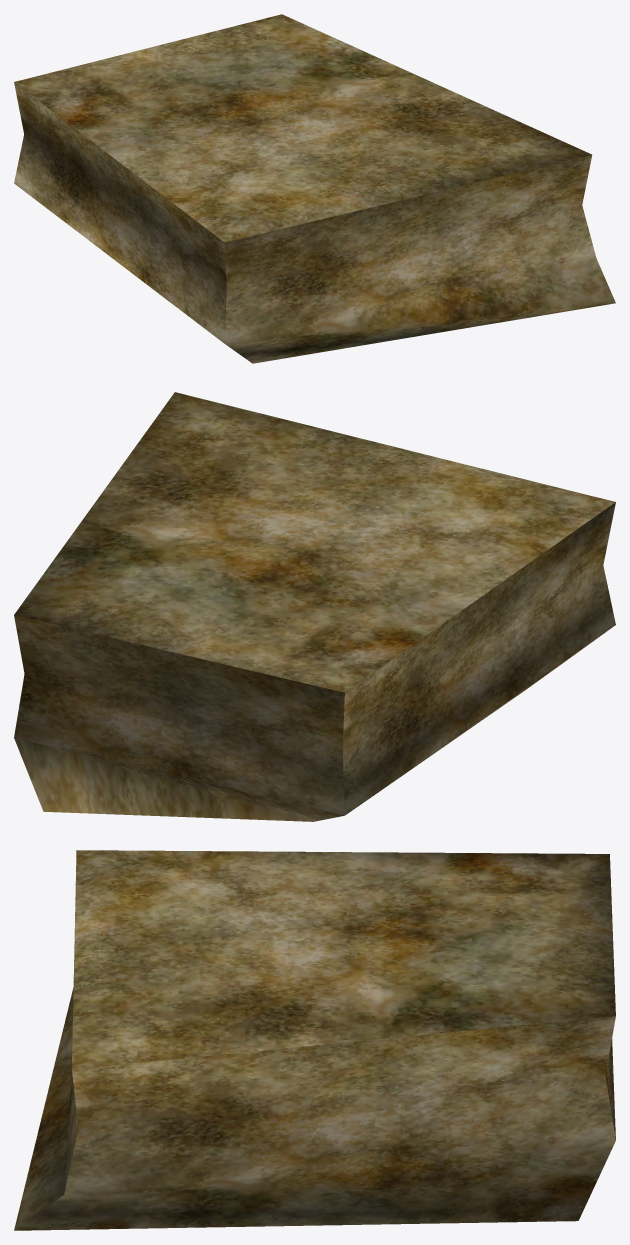
The model's file is TROLLHOLE02_RM_FALL_ROCK10.obj.
The picture shows the model from 3 angles, top to bottom: view 1: azimuth 30°, elevation 25°; view 2: azimuth 150°, elevation 25°; view 3: azimuth 270°, elevation 25°; orthographic projection. The views are drawn at different scales.
Visible parts, largest first — view 1: RM_fall_rock10; view 2: RM_fall_rock10; view 3: RM_fall_rock10.
Part boxes in pixels (x1,y1,x2,y2): RM_fall_rock10: (14,14,615,363); RM_fall_rock10: (14,392,615,821); RM_fall_rock10: (14,850,615,1230).
Size of the model in its own units: 114 by 59.36 by 131.
